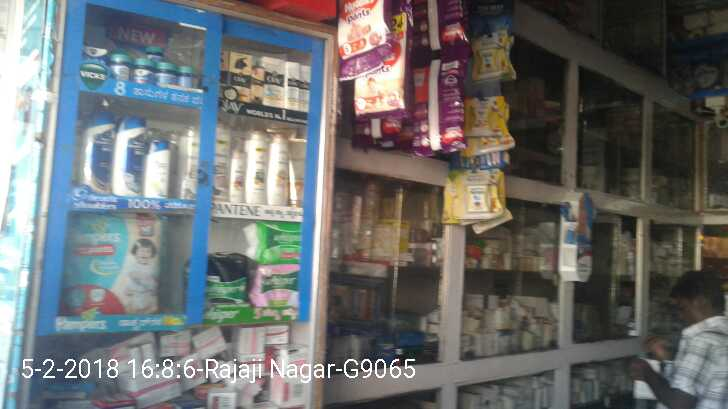beauty: (76, 112, 114, 198), (118, 118, 146, 201), (144, 140, 171, 201), (227, 46, 252, 106), (249, 131, 268, 207), (285, 57, 311, 109), (260, 55, 284, 108), (287, 132, 304, 206), (213, 123, 228, 204), (271, 132, 287, 204), (230, 151, 246, 206)
pharmacy: (61, 212, 166, 315), (250, 212, 302, 263), (205, 255, 253, 302), (254, 264, 291, 303), (109, 50, 131, 85), (80, 44, 107, 72), (130, 56, 156, 82), (155, 57, 176, 86), (178, 61, 193, 88)
